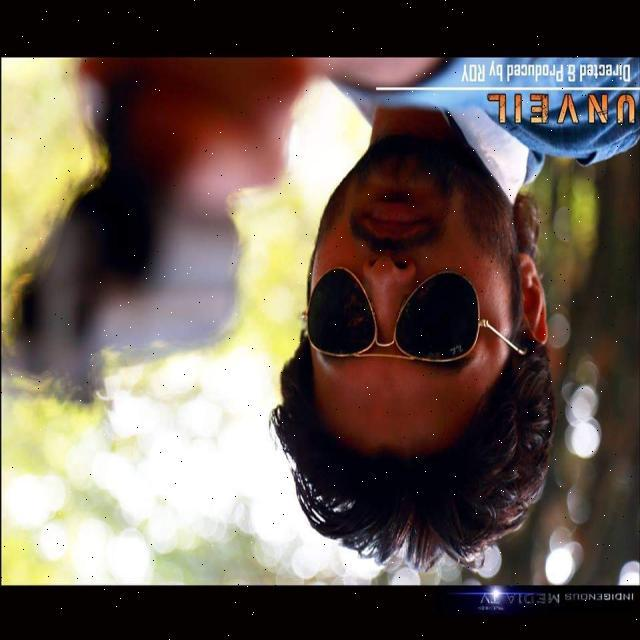gun: (8, 60, 246, 392)
